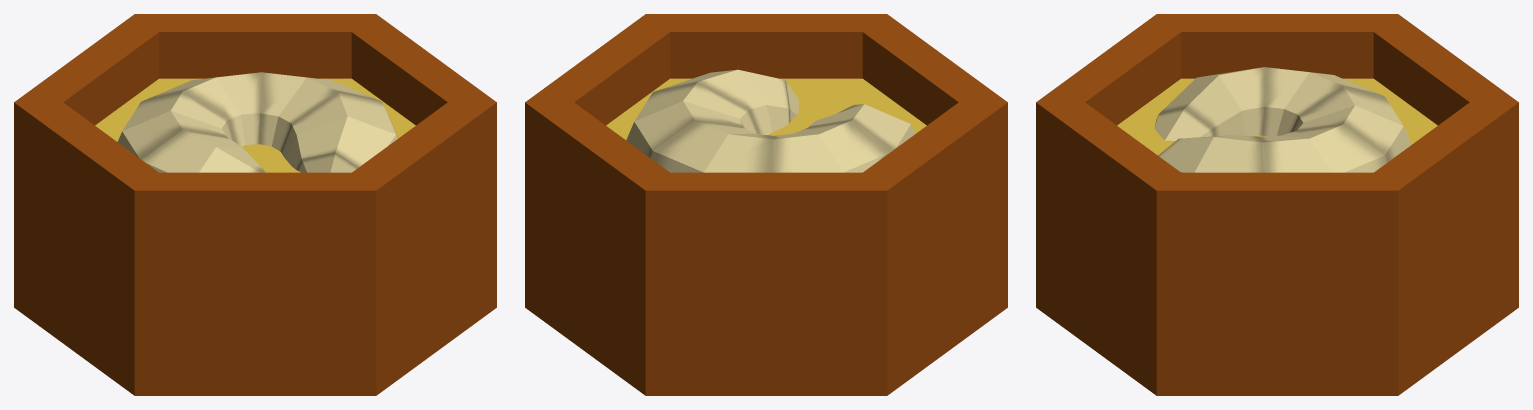
File: HoneyComb_LarvaeFull.fbx
3 renders of one model, left to right at view 1: azimuth 30°, elevation 25°; view 2: azimuth 150°, elevation 25°; view 3: azimuth 270°, elevation 25°, orthographic.
Parts seen in each view (by area): view 1: Cylinder; view 2: Cylinder; view 3: Cylinder.
Boxes of the visible parts, box(x1,y1,x2,y2) form: Cylinder: box(14, 14, 496, 395); Cylinder: box(525, 14, 1007, 395); Cylinder: box(1036, 14, 1518, 395).
Bounding box in the file's own units: 173 × 93.79 × 200.
